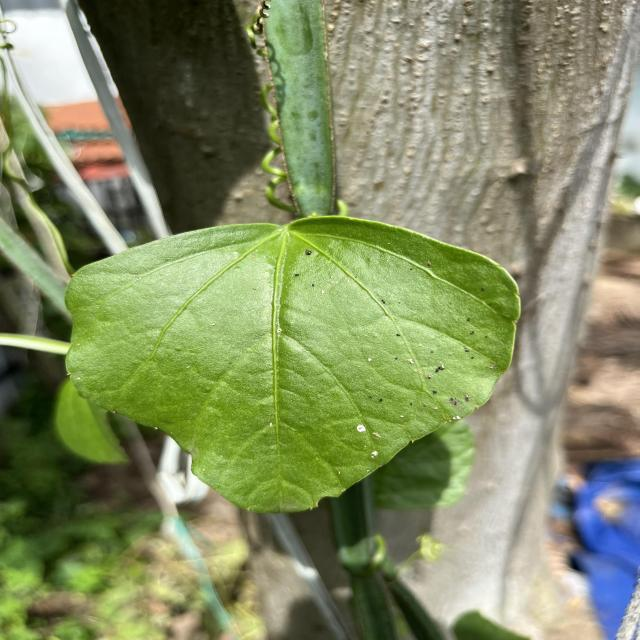Cissus quadrangularis: (59, 211, 526, 518)
